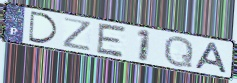1: (136, 29, 151, 64)
A: (193, 41, 229, 75)
D: (28, 10, 60, 45)
E: (95, 21, 129, 59)
Q: (162, 35, 195, 69)
Z: (60, 16, 93, 53)
